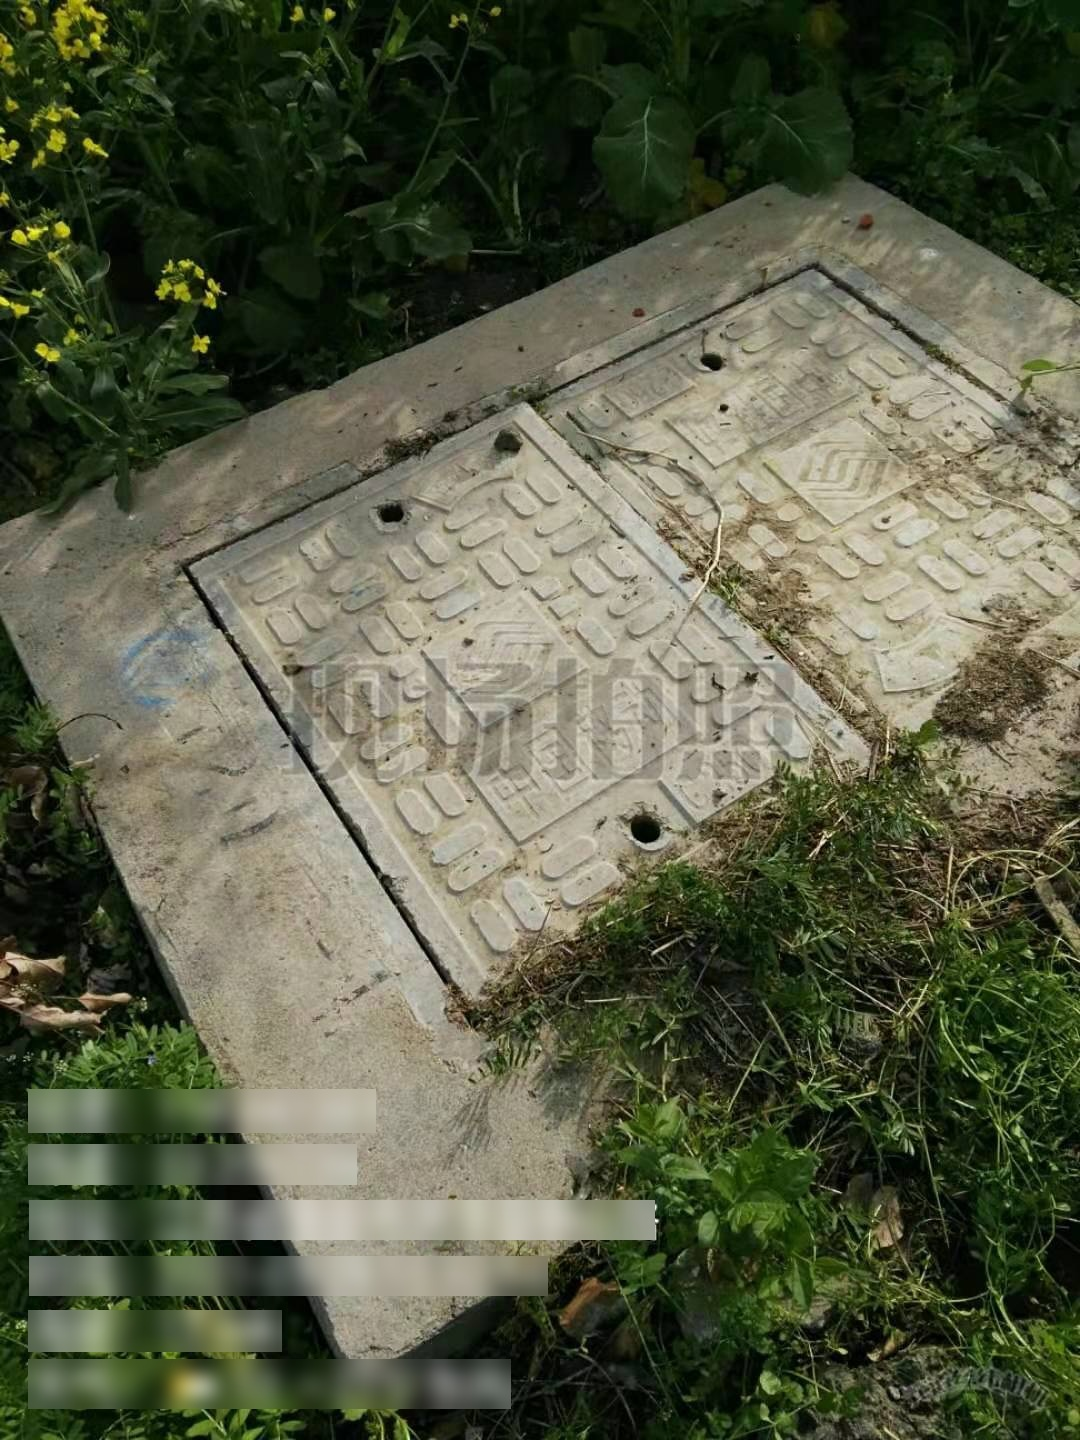uncovered: (155, 247, 1080, 1057)
